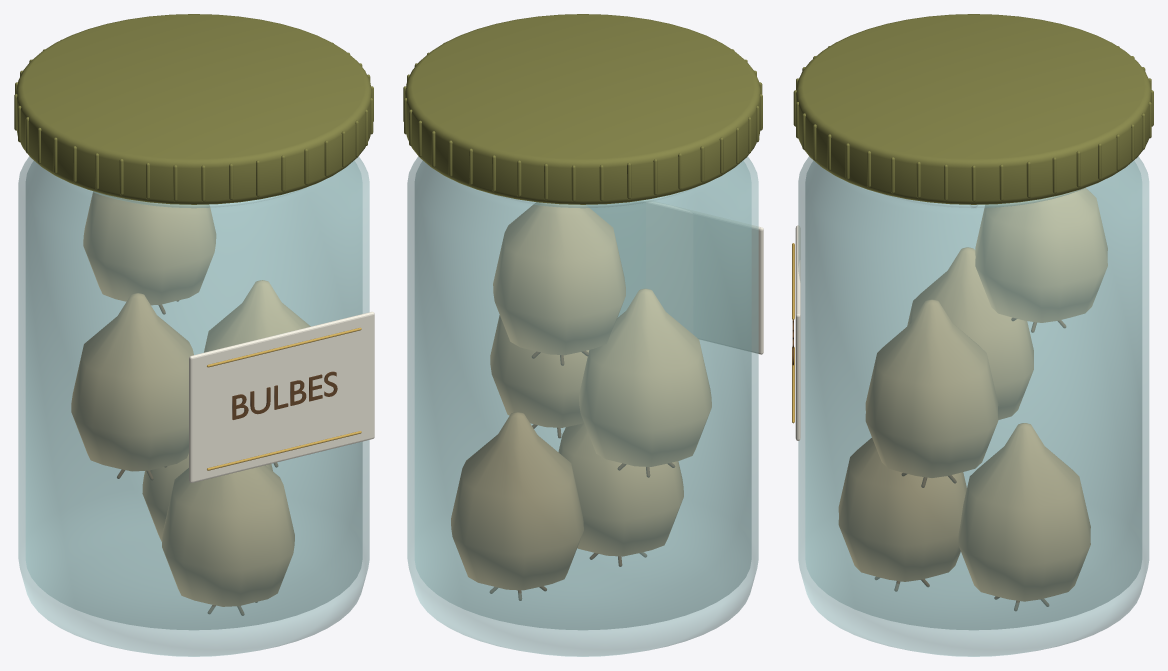
File: jar_bulbs.glb
3 views of the same model, side by side, from view 1: azimuth 30°, elevation 25°; view 2: azimuth 150°, elevation 25°; view 3: azimuth 270°, elevation 25° (orthographic).
Parts seen in each view (by area): view 1: Hollow_jar_glass, Separate_screw_lid, Cream_paper_label, Tapered_bulb.002, Tapered_bulb, Tapered_bulb.004, Tapered_bulb.003, Tapered_bulb.001, Label_BULBES, Glass_thread, Label_gold_rule.001, Label_gold_rule; view 2: Hollow_jar_glass, Separate_screw_lid, Tapered_bulb.001, Cream_paper_label, Tapered_bulb.002, Tapered_bulb.004, Tapered_bulb, Tapered_bulb.003, Glass_thread; view 3: Hollow_jar_glass, Separate_screw_lid, Tapered_bulb.003, Tapered_bulb.001, Tapered_bulb.004, Tapered_bulb, Tapered_bulb.002, Cream_paper_label, Glass_thread.
Boxes of the visible parts, box(x1,y1,x2,y2) form: Hollow_jar_glass: box(18, 156, 369, 656); Separate_screw_lid: box(16, 14, 371, 204); Cream_paper_label: box(189, 312, 374, 482); Tapered_bulb.002: box(71, 293, 193, 471); Tapered_bulb: box(162, 465, 294, 606); Tapered_bulb.004: box(83, 191, 216, 305); Tapered_bulb.003: box(204, 280, 310, 352); Tapered_bulb.001: box(142, 454, 272, 541); Label_BULBES: box(232, 371, 337, 419); Glass_thread: box(81, 187, 306, 208); Label_gold_rule.001: box(207, 327, 361, 367); Label_gold_rule: box(207, 431, 361, 470); Hollow_jar_glass: box(407, 156, 758, 656); Separate_screw_lid: box(405, 14, 760, 204); Tapered_bulb.001: box(451, 412, 583, 590); Cream_paper_label: box(587, 200, 763, 354); Tapered_bulb.002: box(579, 288, 711, 466); Tapered_bulb.004: box(493, 202, 625, 355); Tapered_bulb: box(558, 423, 683, 556); Tapered_bulb.003: box(490, 315, 588, 427); Glass_thread: box(470, 187, 695, 208); Hollow_jar_glass: box(798, 156, 1149, 656); Separate_screw_lid: box(796, 14, 1151, 204); Tapered_bulb.003: box(865, 299, 998, 477); Tapered_bulb.001: box(958, 423, 1090, 601); Tapered_bulb.004: box(975, 188, 1107, 322); Tapered_bulb: box(838, 438, 966, 581); Tapered_bulb.002: box(907, 247, 1033, 419); Cream_paper_label: box(795, 225, 800, 440); Glass_thread: box(861, 187, 1086, 208).
Bounding box in the file's own units: 0.1518 × 0.2395 × 0.1525.
